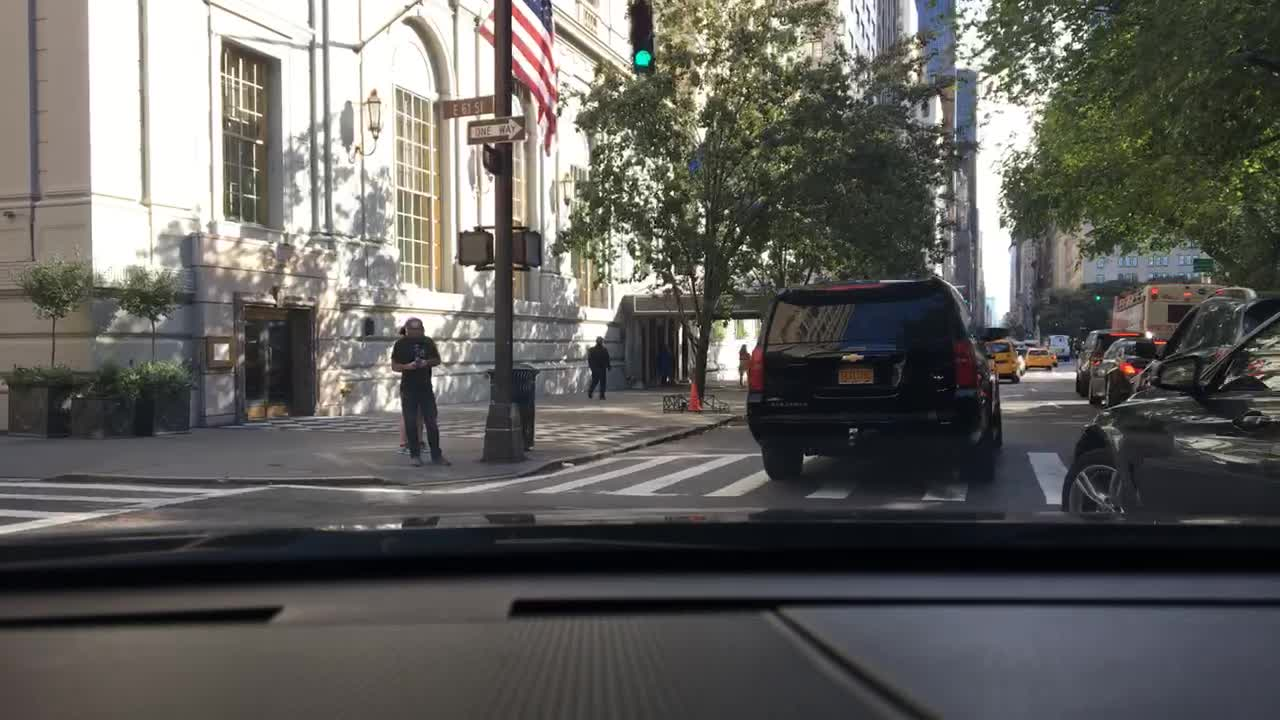car: (1058, 295, 1279, 535), (741, 280, 1002, 482), (1083, 337, 1171, 408), (1073, 327, 1122, 399), (982, 339, 1021, 383), (1022, 342, 1054, 374), (1041, 334, 1071, 359), (1009, 342, 1026, 367)
person: (388, 317, 452, 469), (395, 327, 428, 455), (585, 334, 611, 401), (735, 340, 752, 383)
traffic light: (626, 0, 651, 74), (509, 229, 543, 271), (459, 232, 492, 261), (1093, 281, 1102, 302)
traffic sign: (469, 118, 525, 148), (1189, 258, 1211, 273)
truck: (1110, 286, 1232, 359)
